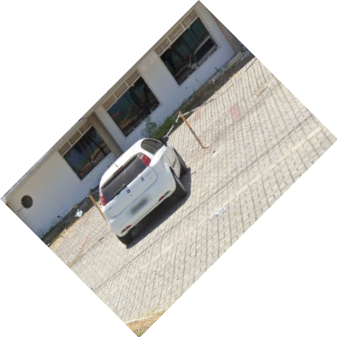car: (95, 132, 194, 248)
